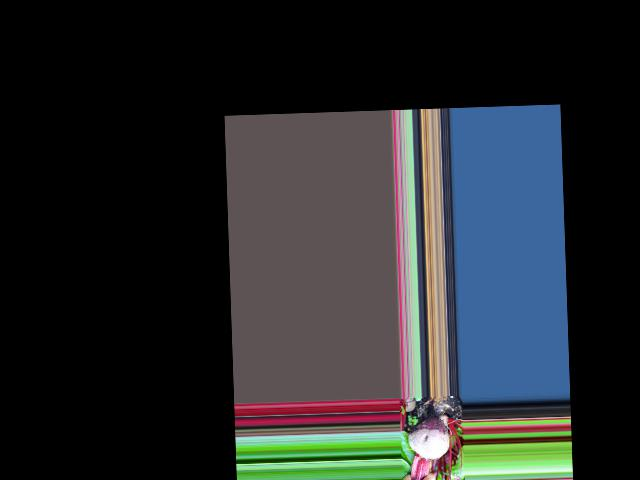beet: (407, 395, 451, 480)
